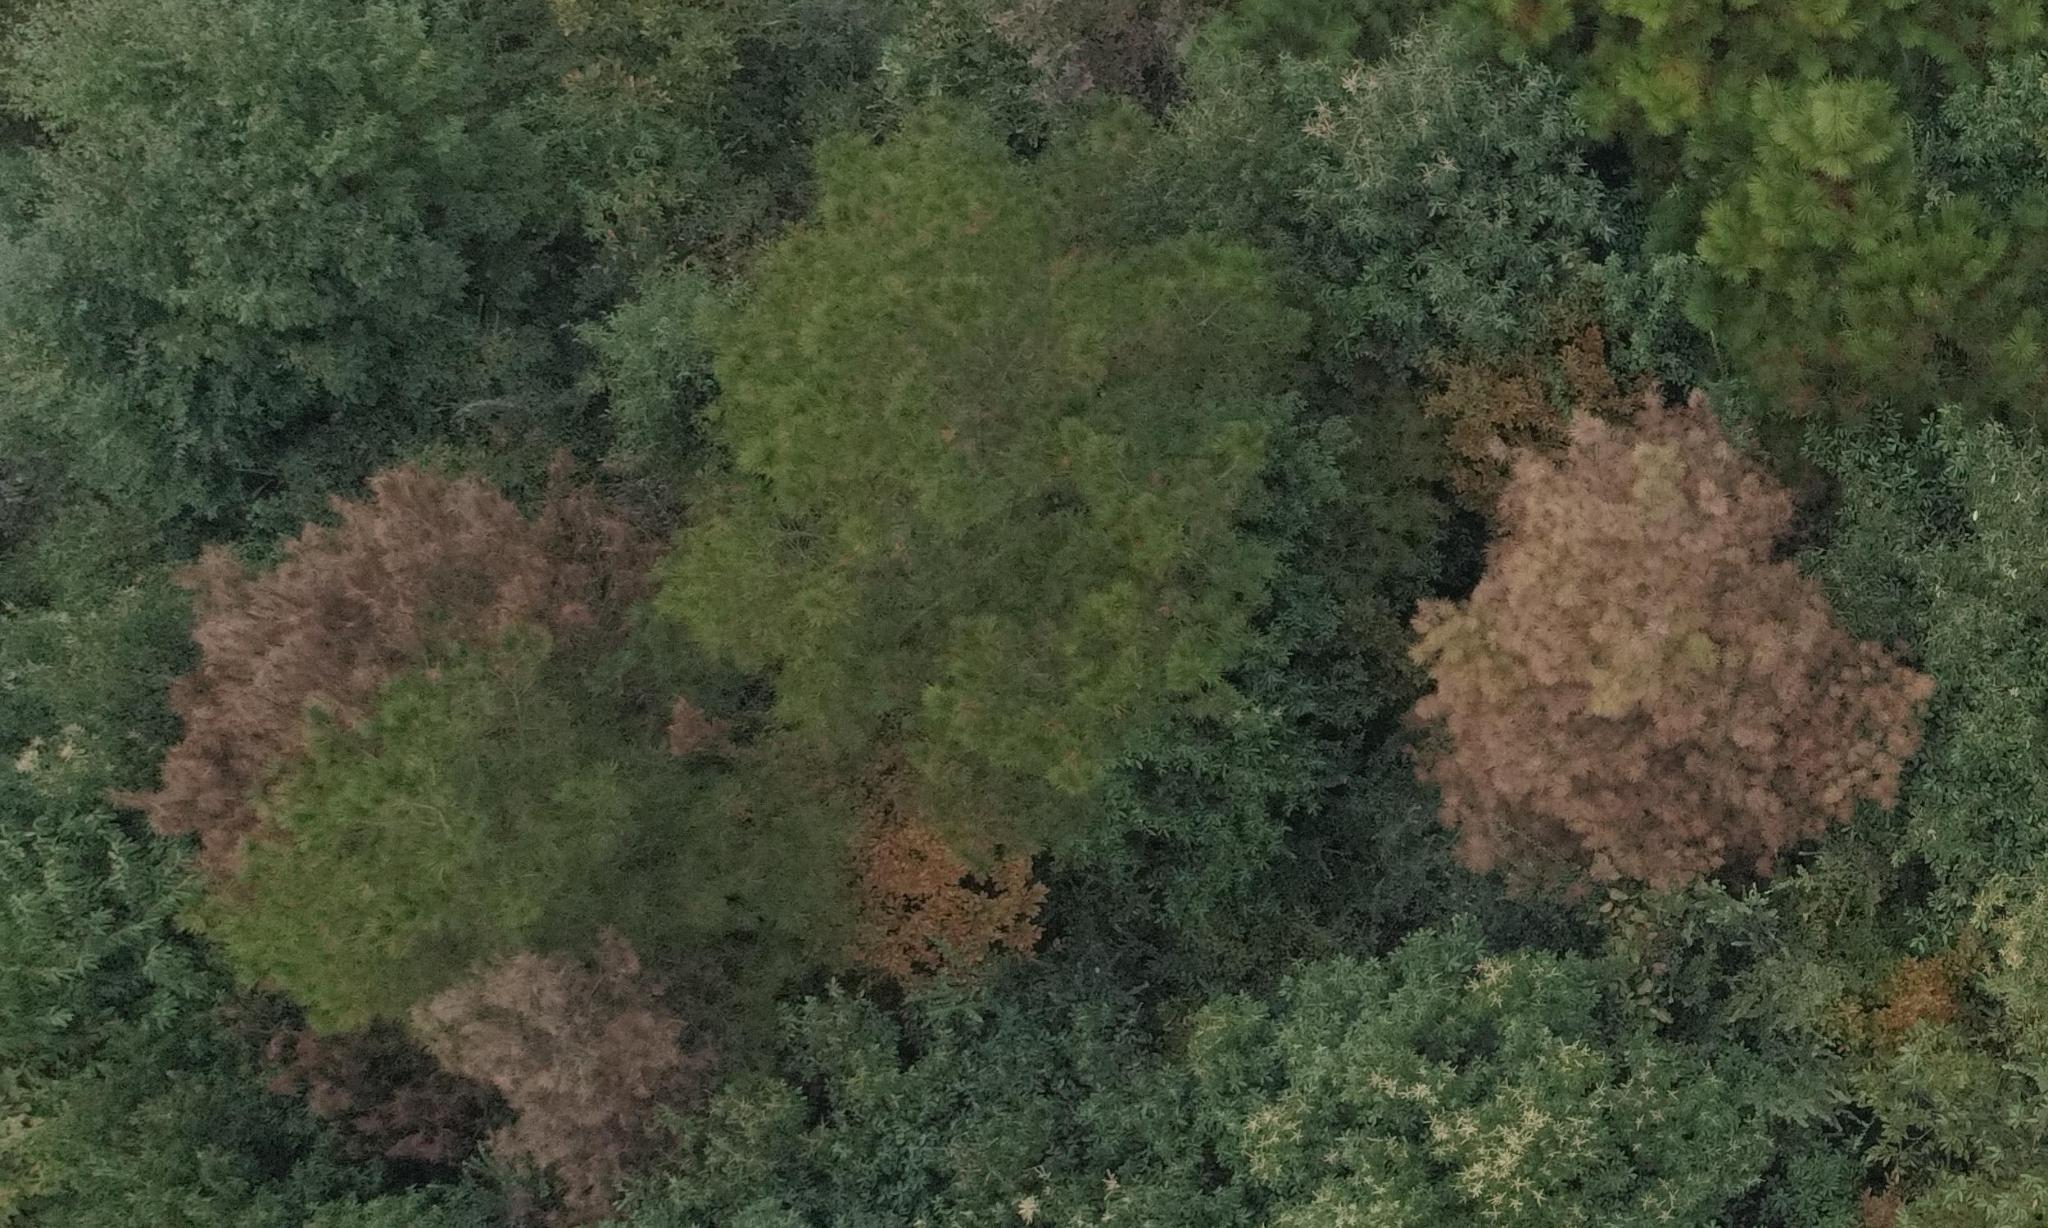heavy: (1397, 389, 1935, 949), (118, 444, 658, 858), (234, 931, 712, 1210)
